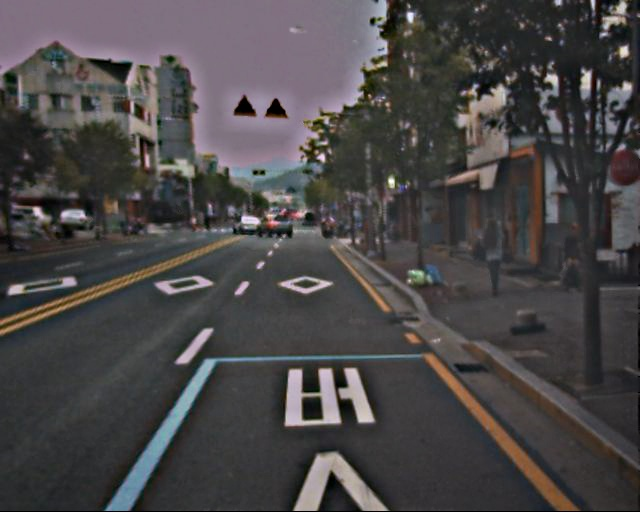person: (474, 217, 511, 296), (548, 221, 587, 291)
